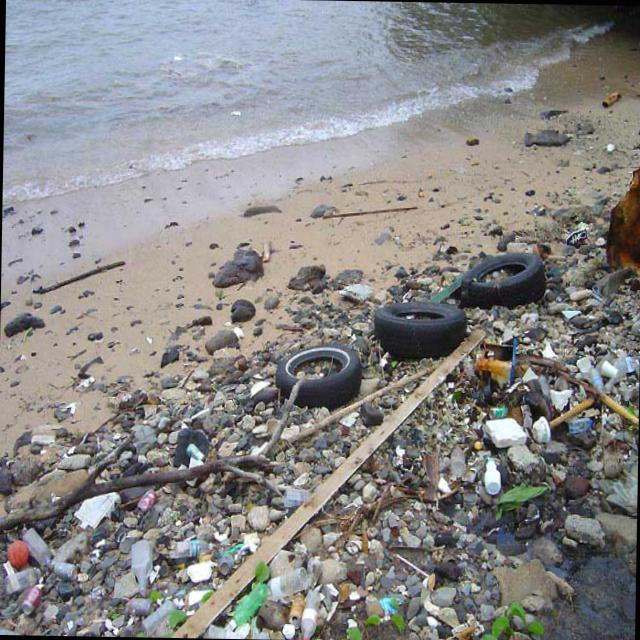garbage: (63, 230, 638, 640)
